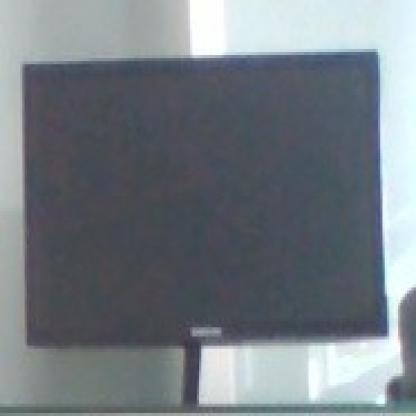not trash: (21, 48, 394, 346)
